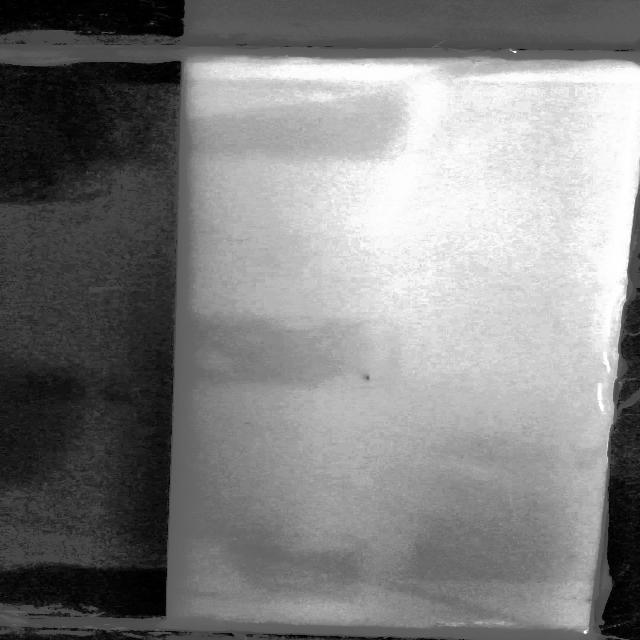shrimp: (358, 371, 374, 383)
